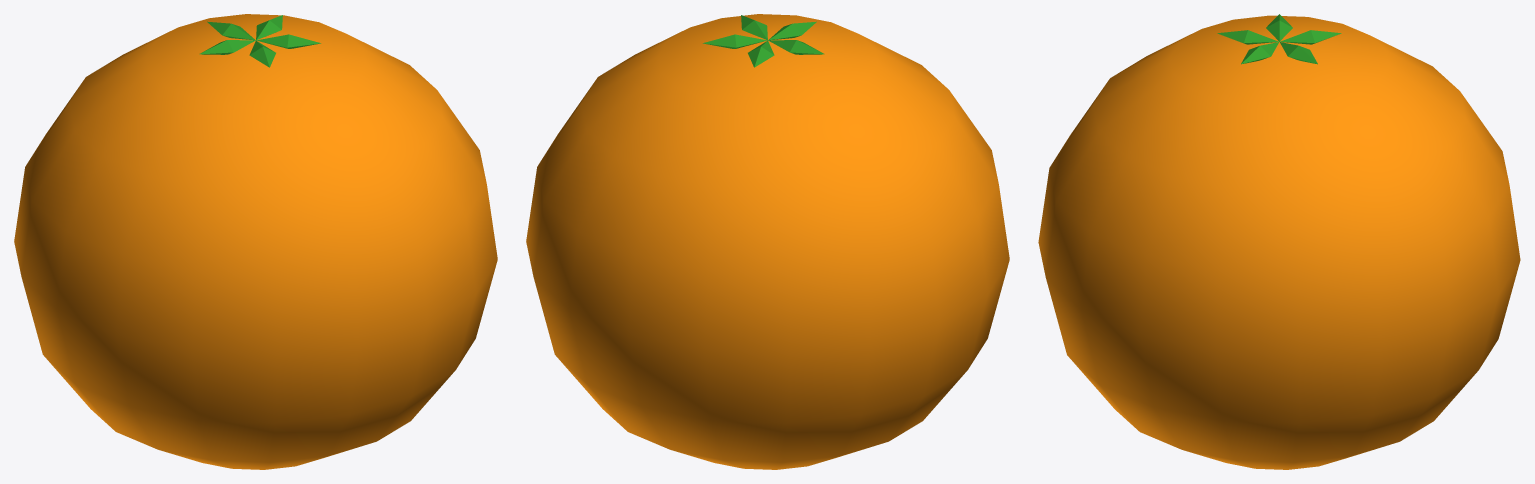
File: Orange.fbx
3 views of the same model, side by side, from view 1: azimuth 30°, elevation 25°; view 2: azimuth 150°, elevation 25°; view 3: azimuth 270°, elevation 25° (orthographic).
Visible parts, largest first — view 1: Orange; view 2: Orange; view 3: Orange.
Boxes of the visible parts, bbox=[...] form: Orange: bbox=[14, 14, 497, 469]; Orange: bbox=[526, 14, 1009, 469]; Orange: bbox=[1038, 14, 1520, 469].
Size of the model in its own units: 0.0877 by 0.0815 by 0.0877.
